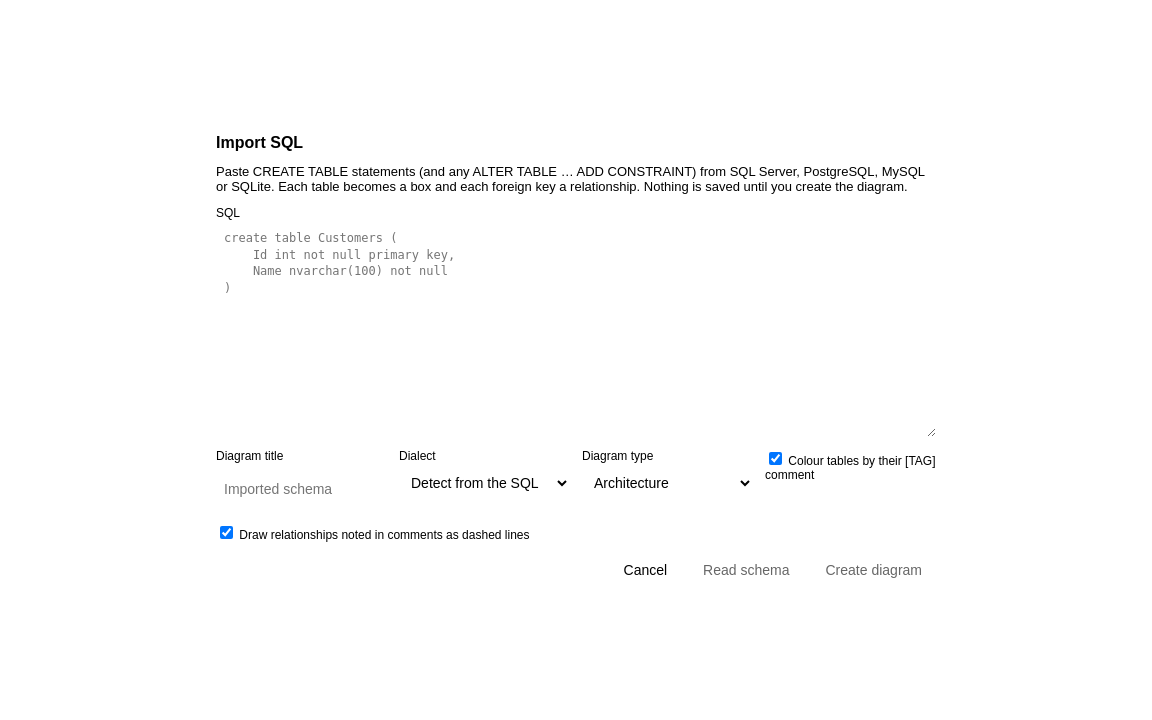
Test case: ImportSqlDialog › shows the server message when the request is refused and lets the user try again
Replace the text in the text box labelled "SQL" with "x": [576, 330] box [216,224,936,437]
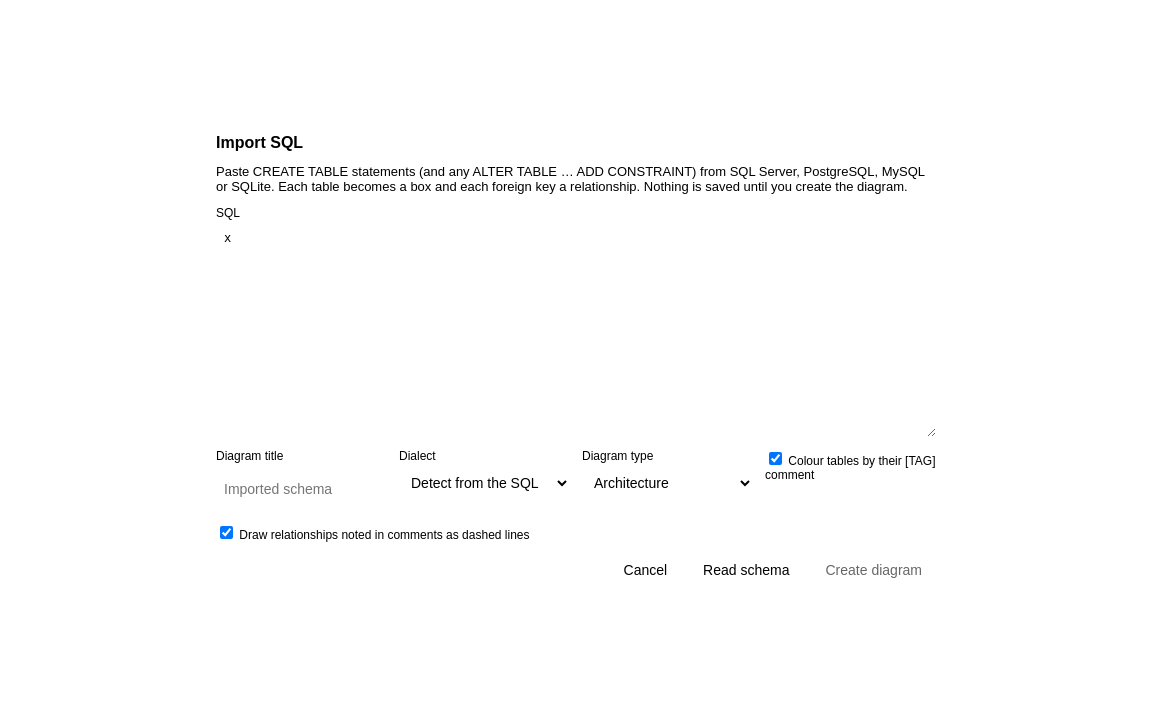
Click the button "Read schema": [746, 570] box [689,554,804,586]
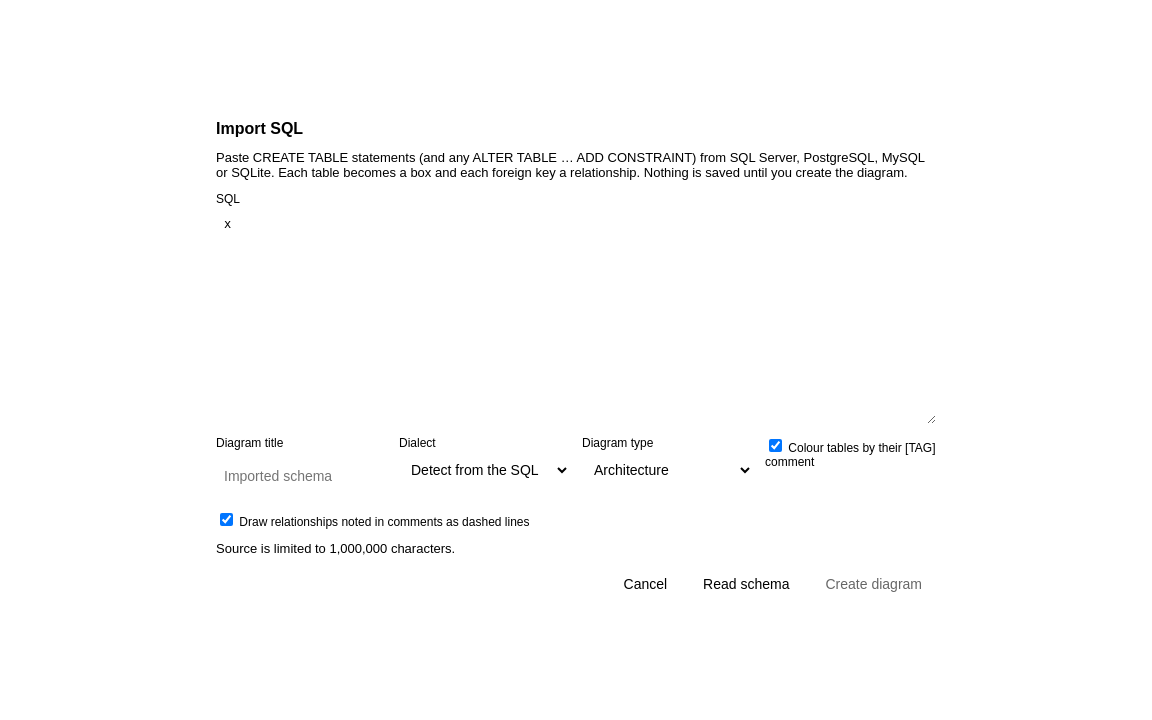
Check: the message reads "Source is limited to 1,000,000 characters.", box [216,541,455,556]
